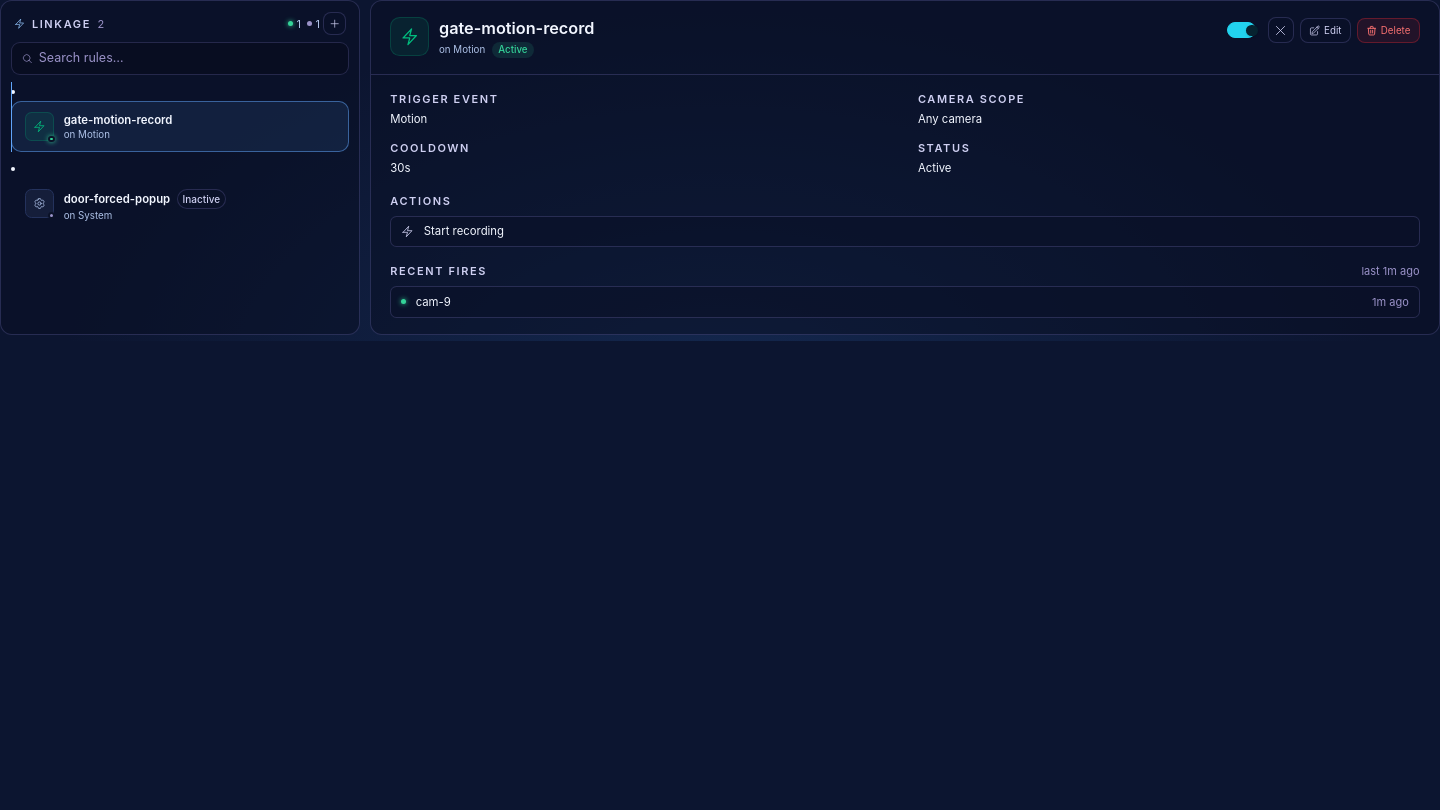
Test: the camera scope picker › says a recorder is not answering rather than that there are no cameras
Click the button named "new rule" at (335, 24), box 323,12 -> 346,35
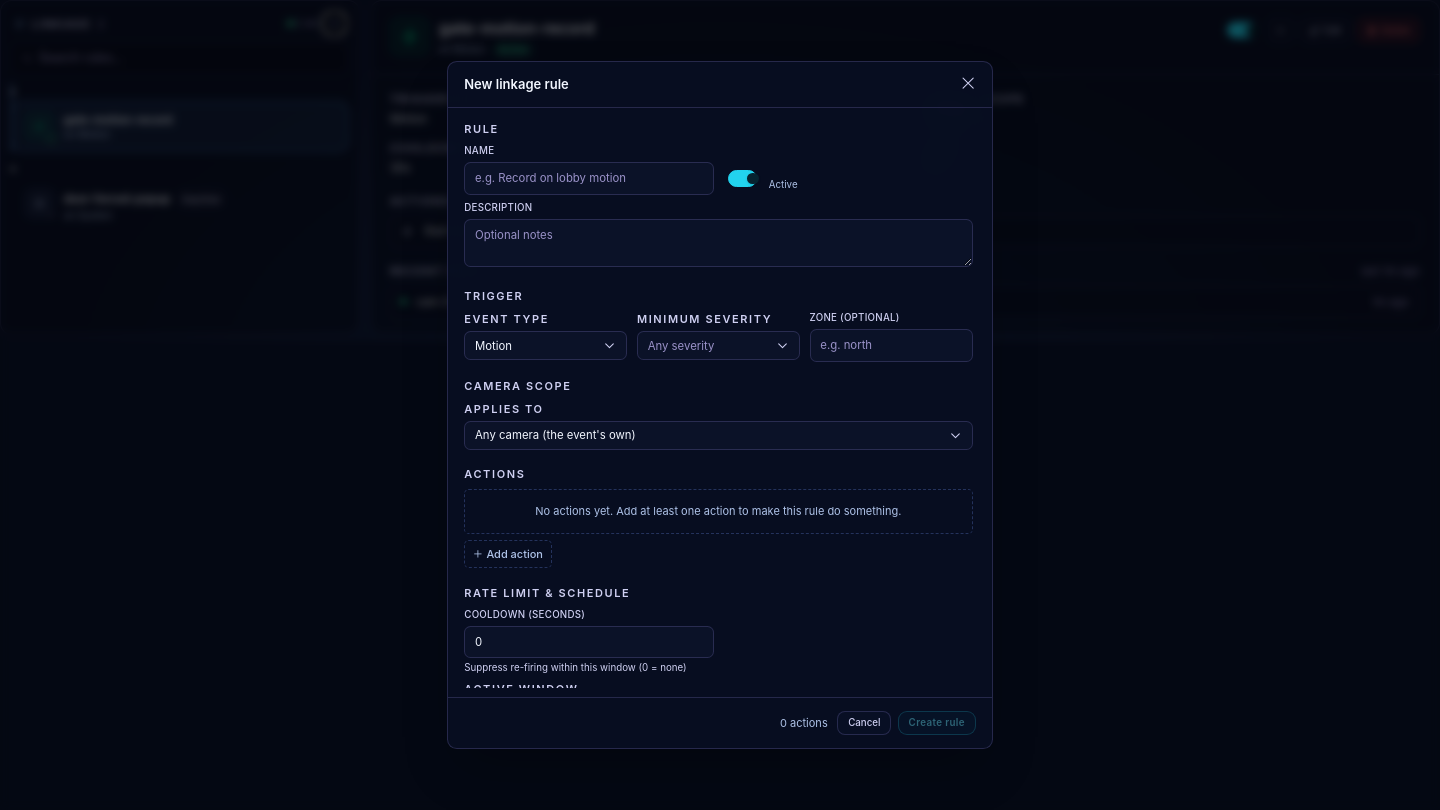
Click the button with aria-label "applies to" at (555, 435), box 464,421 -> 973,450
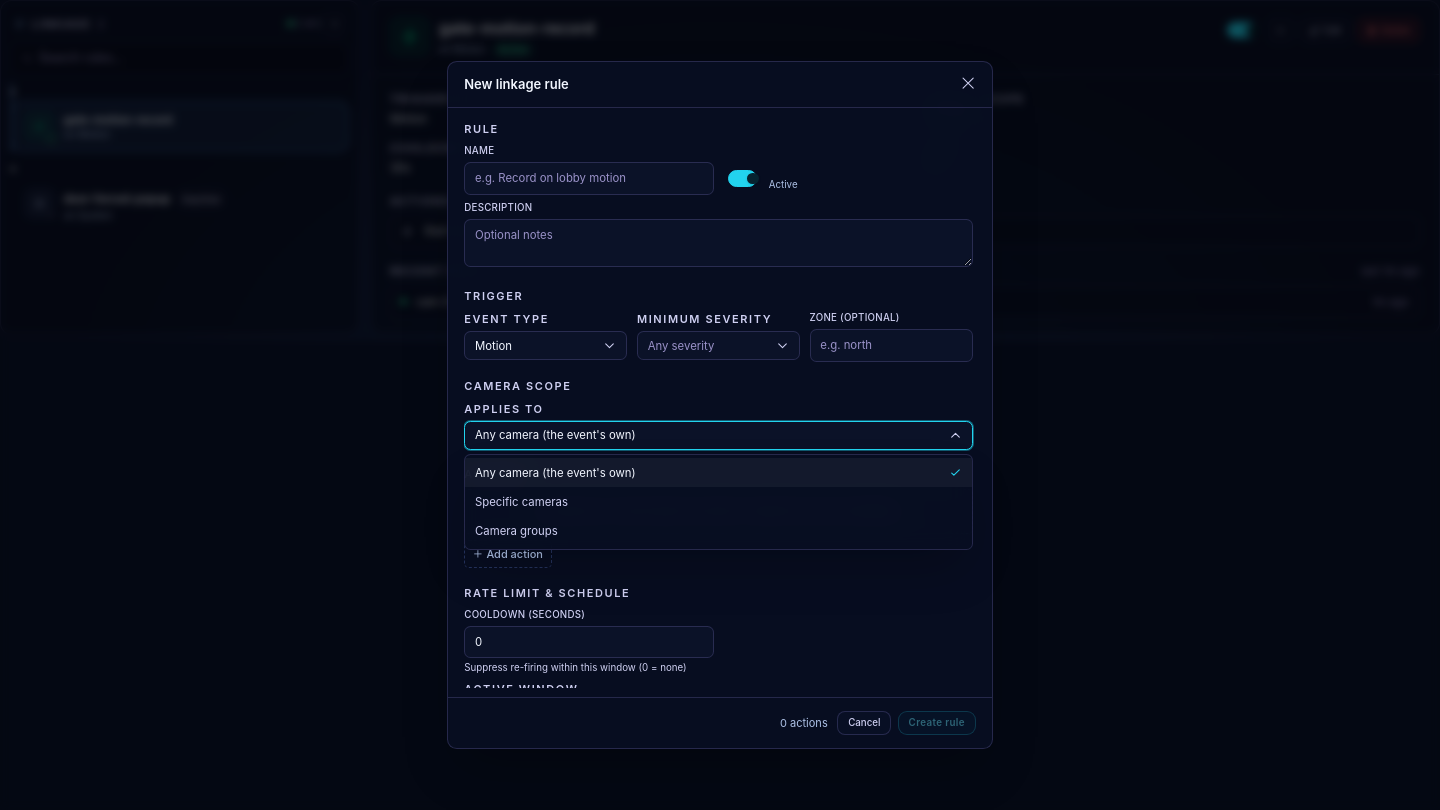
Click the option "Specific cameras" at (521, 502), box 465,487 -> 972,517
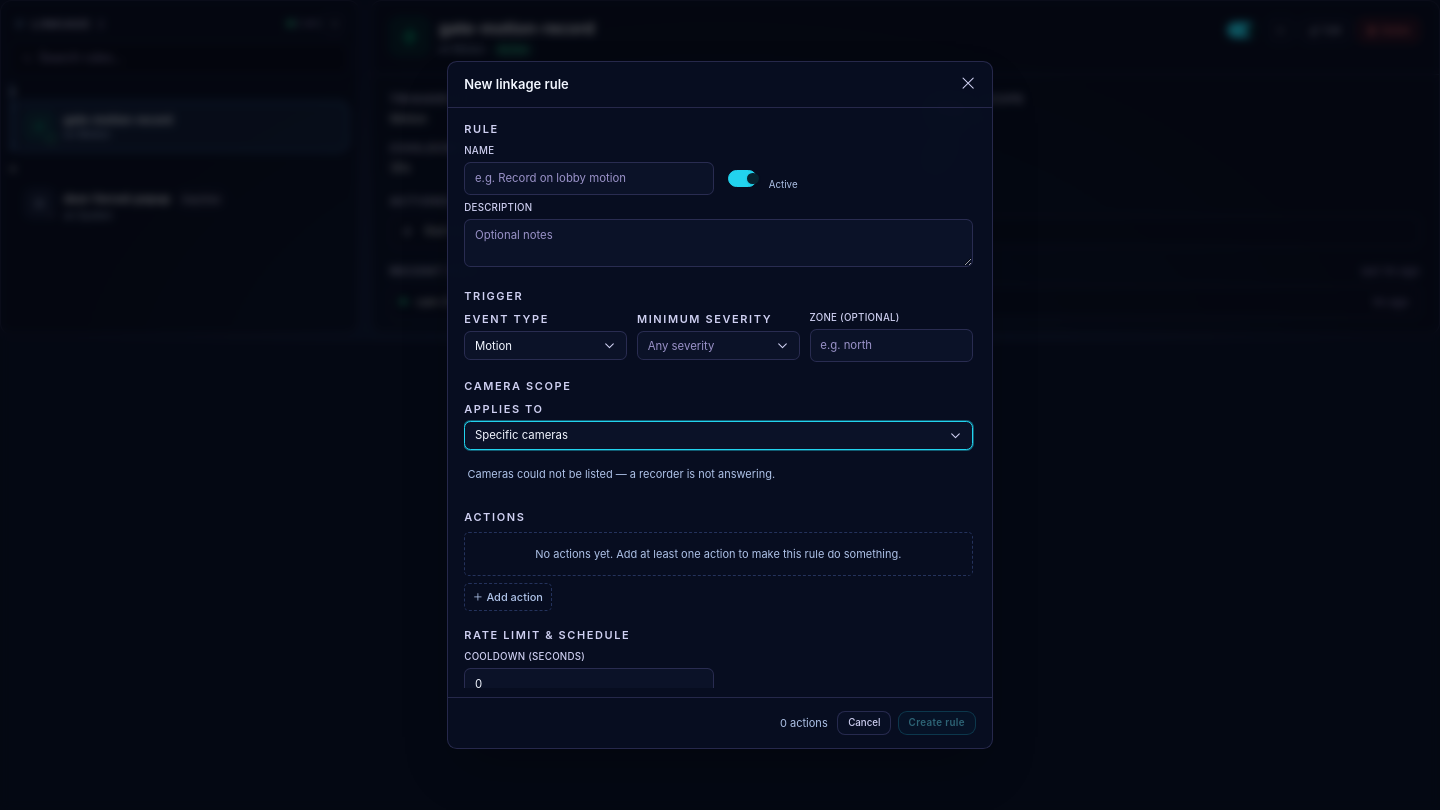
Expected: the text "Cameras could not be listed — a recorder is not answering." is shown, 468,467 -> 775,481
